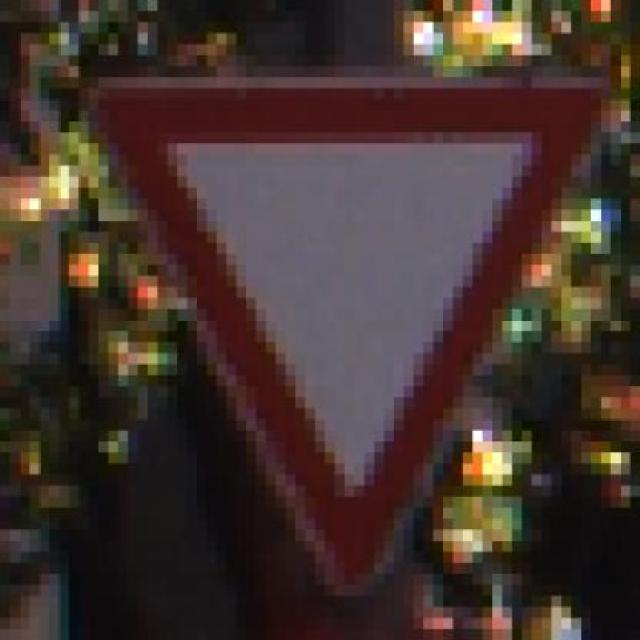Give Way: (59, 55, 621, 596)
